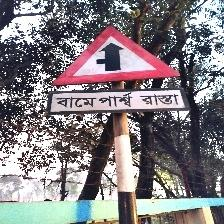Side-road-left: (46, 24, 190, 118)
